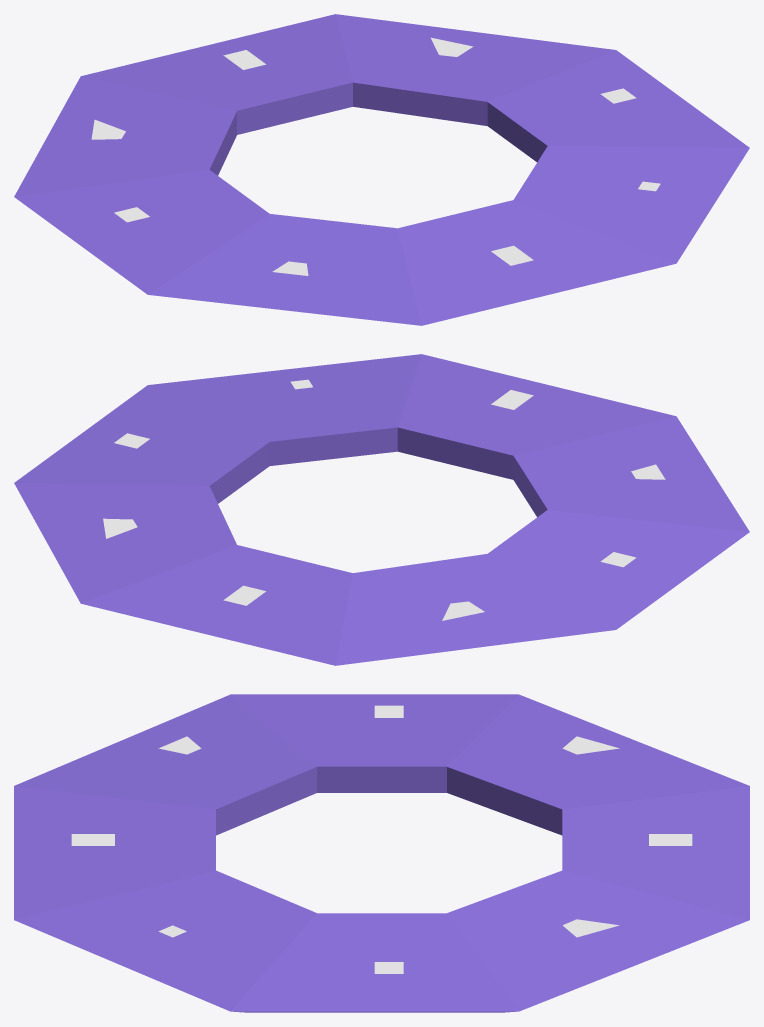
The model's file is inv_disk_of_returning.obj.
3 renders of one model, top to bottom at view 1: azimuth 30°, elevation 25°; view 2: azimuth 150°, elevation 25°; view 3: azimuth 270°, elevation 25°, orthographic. The views are drawn at different scales.
Bounding box in the file's own units: 0.4062 × 0.0156 × 0.3984.
